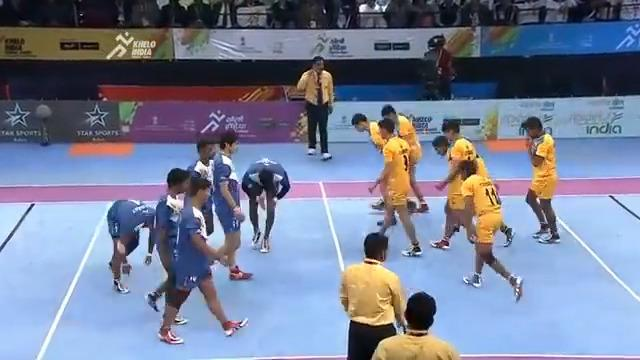Player: (157, 169, 248, 344), (448, 157, 524, 301), (339, 231, 407, 359), (369, 117, 423, 257), (145, 167, 191, 325), (210, 129, 253, 280), (370, 291, 460, 359), (521, 115, 560, 243), (240, 157, 291, 252), (106, 198, 156, 293)
referee: (295, 55, 334, 160)
